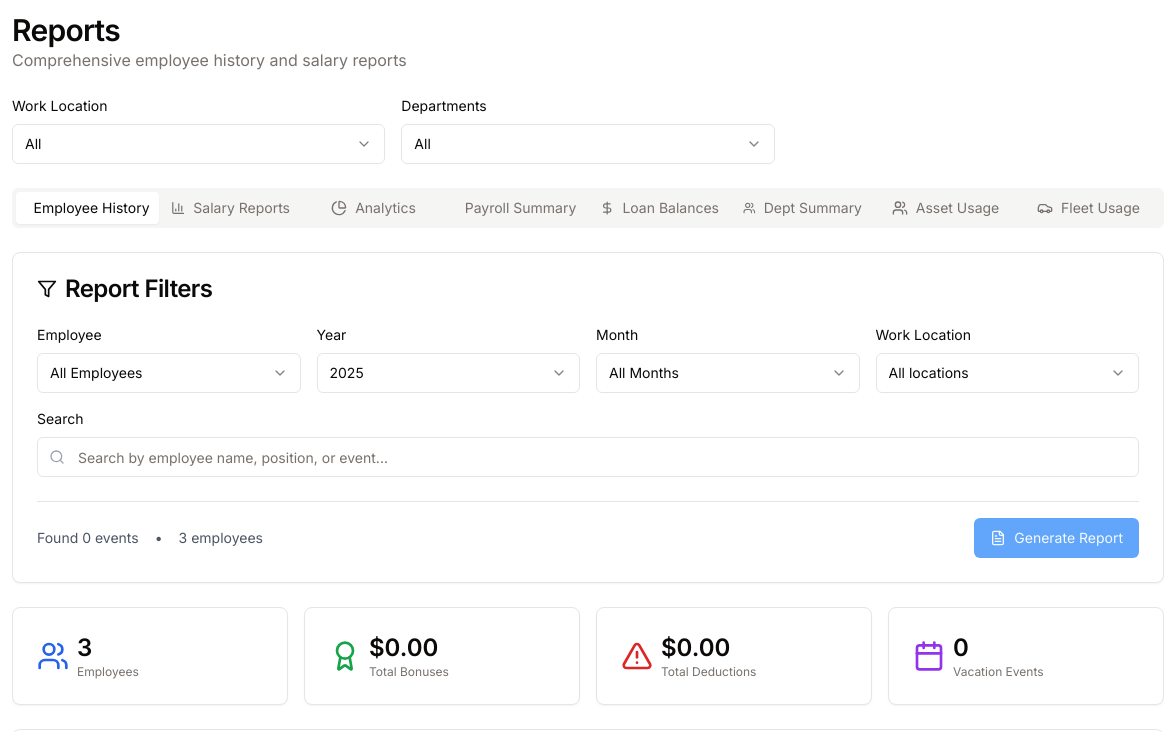
Scenario: Reports page - assignment usage filtering › shows only fleet assignments overlapping the selected date range
The width and height of the screenshot is (1164, 732).
What coordinates should you click on to do the following:
click the tab "Fleet Usage"
I would click on:
 (1088, 208)
Its box is 1017,192 -> 1160,224.
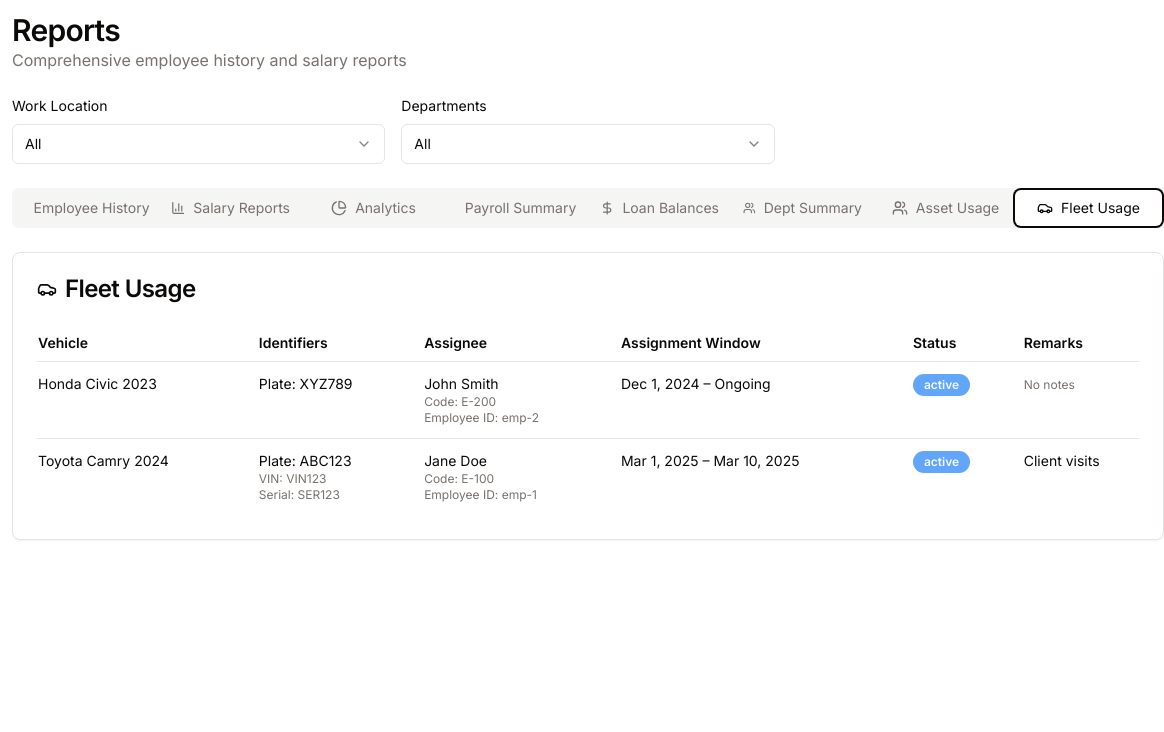
Expected: the text "Toyota Camry 2024" is shown, 38,452 -> 169,469
Expected: the text "Honda Civic 2023" is shown, 38,375 -> 157,392
